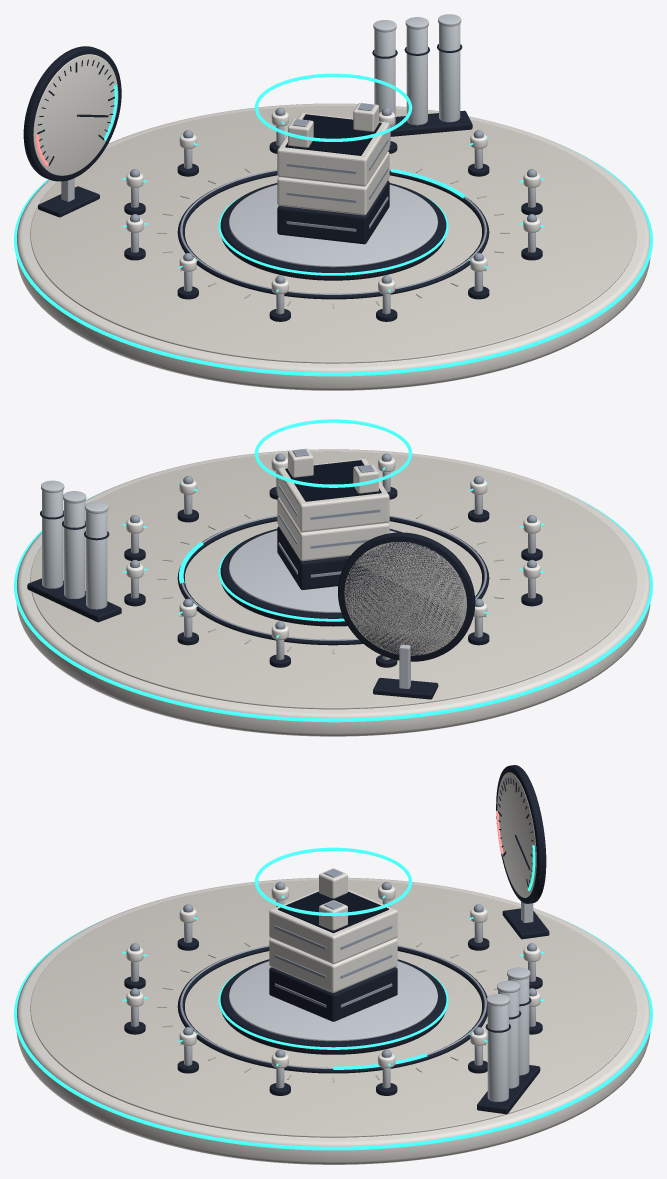
File: proving-ground.glb
3 renders of one model, top to bottom at view 1: azimuth 30°, elevation 25°; view 2: azimuth 150°, elevation 25°; view 3: azimuth 270°, elevation 25°, orthographic.
Parts seen in each view (by area): view 1: Plinth top, Plinth, Turntable plate, Gauge dial, Turntable base, Arena inlay, UI body, API body, Data body, Track rail, Gauge rim, Meter tube 2 (+9 smaller); view 2: Plinth top, Plinth, Gauge dial, Gauge rim, Turntable plate, Arena inlay, UI body, API body, Track rail, Meter tube 0, Meter tube 2, Meter tube 1 (+11 smaller); view 3: Plinth top, Plinth, Turntable plate, UI body, Arena inlay, Turntable base, Data body, API body, Gauge dial, Track rail, Meter tube 2, Gauge rim (+10 smaller).
Boxes of the visible parts, x1,y1,x2,y2 form: Plinth top: [30, 106, 636, 363]; Plinth: [16, 103, 650, 390]; Turntable plate: [229, 184, 437, 267]; Gauge dial: [33, 54, 118, 175]; Turntable base: [220, 183, 446, 280]; Arena inlay: [14, 145, 652, 376]; UI body: [277, 113, 389, 186]; API body: [277, 151, 389, 215]; Data body: [277, 180, 389, 244]; Track rail: [177, 171, 489, 299]; Gauge rim: [23, 46, 121, 181]; Meter tube 2: [439, 24, 460, 122]; Plinth top: [30, 451, 636, 709]; Plinth: [16, 449, 650, 736]; Gauge dial: [344, 542, 466, 655]; Gauge rim: [338, 532, 475, 661]; Turntable plate: [229, 530, 396, 612]; Arena inlay: [14, 490, 652, 722]; UI body: [277, 458, 389, 532]; API body: [277, 497, 389, 561]; Track rail: [177, 517, 489, 645]; Meter tube 0: [86, 511, 107, 609]; Meter tube 2: [42, 490, 63, 588]; Meter tube 1: [64, 501, 85, 598]; Plinth top: [30, 880, 636, 1137]; Plinth: [16, 877, 650, 1164]; Turntable plate: [229, 961, 437, 1041]; UI body: [269, 889, 397, 963]; Arena inlay: [14, 920, 652, 1150]; Turntable base: [220, 959, 446, 1054]; Data body: [269, 967, 397, 1021]; API body: [269, 938, 397, 992]; Gauge dial: [497, 772, 536, 897]; Track rail: [177, 946, 487, 1073]; Meter tube 2: [487, 1003, 508, 1101]; Gauge rim: [496, 765, 546, 903].
Size of the model in its own units: 25.19 by 7.83 by 25.19.
